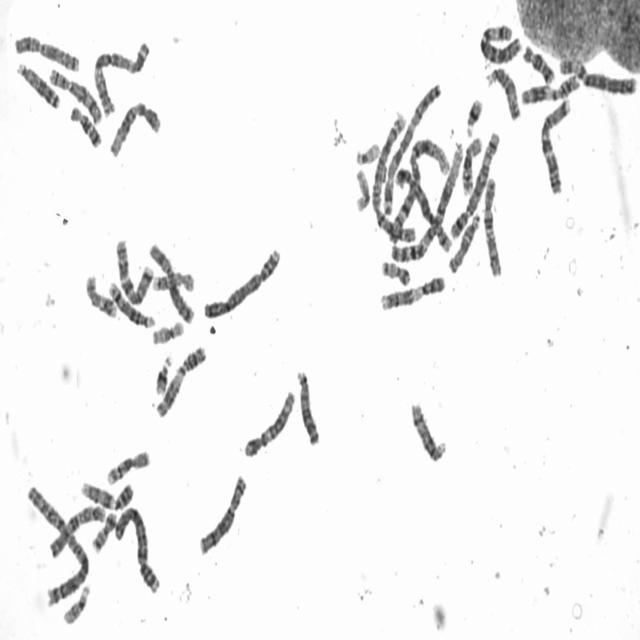A1: (386, 135, 464, 265), (387, 134, 456, 250)
A2: (23, 479, 90, 609), (367, 108, 418, 245)
A3: (379, 77, 443, 229), (90, 33, 152, 120)
B4: (200, 241, 282, 322), (111, 500, 161, 597)
B5: (447, 126, 501, 242), (392, 161, 454, 255)
C10: (46, 498, 107, 560), (480, 170, 504, 279)
C11: (152, 338, 208, 420), (517, 68, 582, 106)
C12: (241, 383, 297, 460), (106, 95, 162, 159)
C6: (555, 49, 639, 97), (476, 18, 524, 65)
C7: (537, 91, 573, 197), (113, 232, 155, 307)
C8: (195, 469, 248, 557), (46, 62, 104, 125)
C9: (378, 269, 448, 313), (77, 474, 136, 512)
D13: (13, 55, 62, 111), (293, 363, 321, 448)
D14: (105, 275, 157, 330), (408, 396, 448, 464)
D15: (445, 207, 482, 276), (483, 61, 522, 122)
E16: (103, 444, 152, 487), (459, 130, 484, 196)
E17: (82, 268, 119, 320), (148, 264, 196, 294)
E18: (66, 99, 104, 150), (520, 39, 556, 86)
F19: (149, 314, 185, 346), (352, 161, 371, 214)
F20: (88, 506, 118, 554), (378, 254, 411, 288)
G21: (152, 348, 174, 398), (462, 91, 484, 138)
G22: (60, 580, 92, 626), (353, 136, 382, 166)
X: (146, 236, 196, 326), (12, 29, 82, 74)
